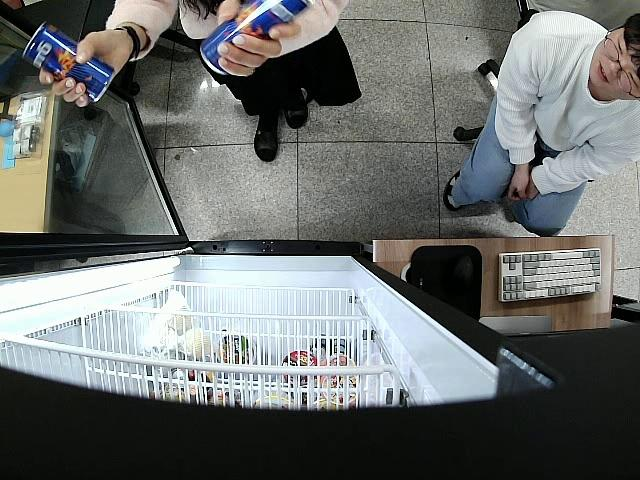00_hand: (39, 29, 133, 108), (218, 0, 300, 80)
16_hot6: (197, 0, 313, 75), (24, 21, 118, 101)
